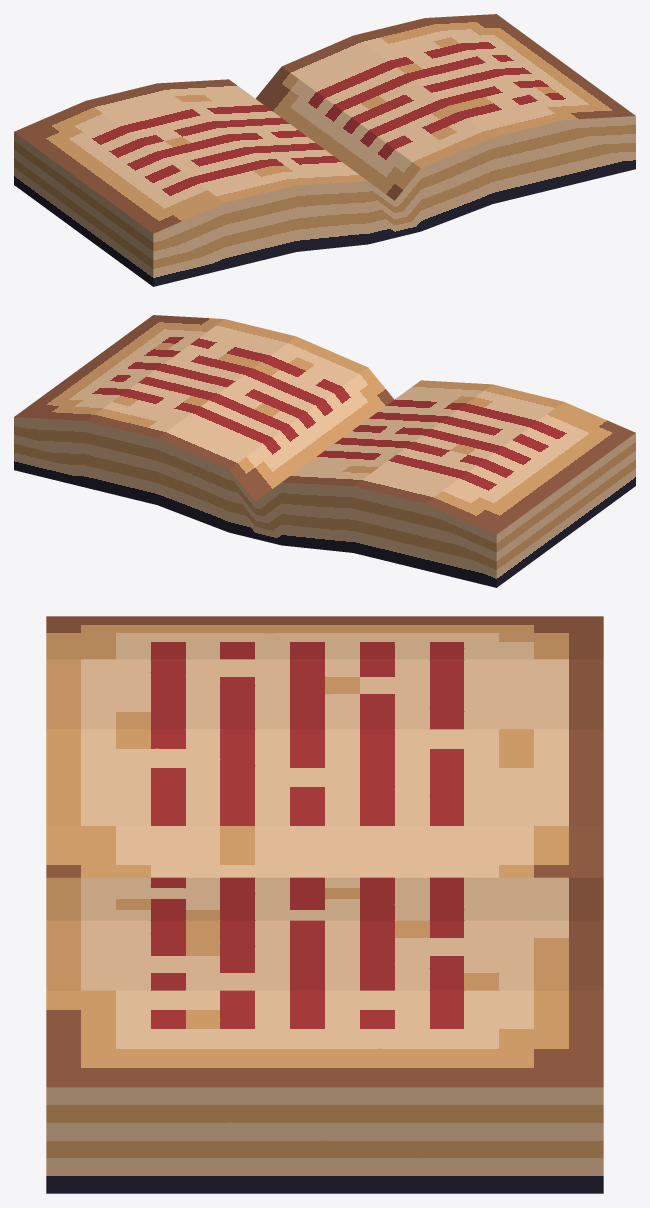
The model's file is book.fbx.
The picture shows the model from 3 angles, top to bottom: view 1: azimuth 30°, elevation 25°; view 2: azimuth 150°, elevation 25°; view 3: azimuth 270°, elevation 25°; orthographic projection. The views are drawn at different scales.
Visible parts, largest first — view 1: Book; view 2: Book; view 3: Book.
Part boxes in pixels (x1=…): Book: x1=14, y1=14, x2=635, y2=286; Book: x1=14, y1=315, x2=635, y2=587; Book: x1=46, y1=616, x2=603, y2=1193.
Bounding box in the file's own units: 80 × 12.13 × 40.
